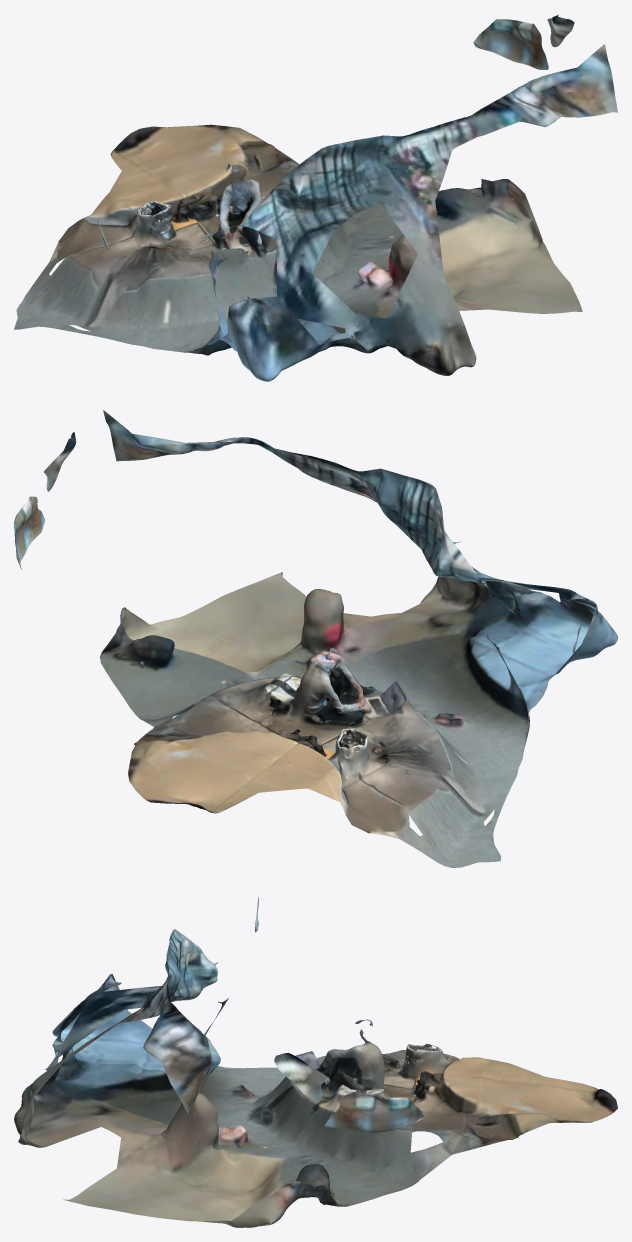
The model's file is fairy_boarding.glb.
The picture shows the model from 3 angles, top to bottom: view 1: azimuth 30°, elevation 25°; view 2: azimuth 150°, elevation 25°; view 3: azimuth 270°, elevation 25°; orthographic projection. The views are drawn at different scales.
Visible parts, largest first — view 1: 3DModel; view 2: 3DModel; view 3: 3DModel.
Part boxes in pixels (x1=…): 3DModel: x1=14, y1=14, x2=617, y2=381; 3DModel: x1=14, y1=410, x2=617, y2=867; 3DModel: x1=14, y1=897, x2=617, y2=1227.
Size of the model in its own units: 6.56 by 3.14 by 7.06.
1 material, 1 textured.
